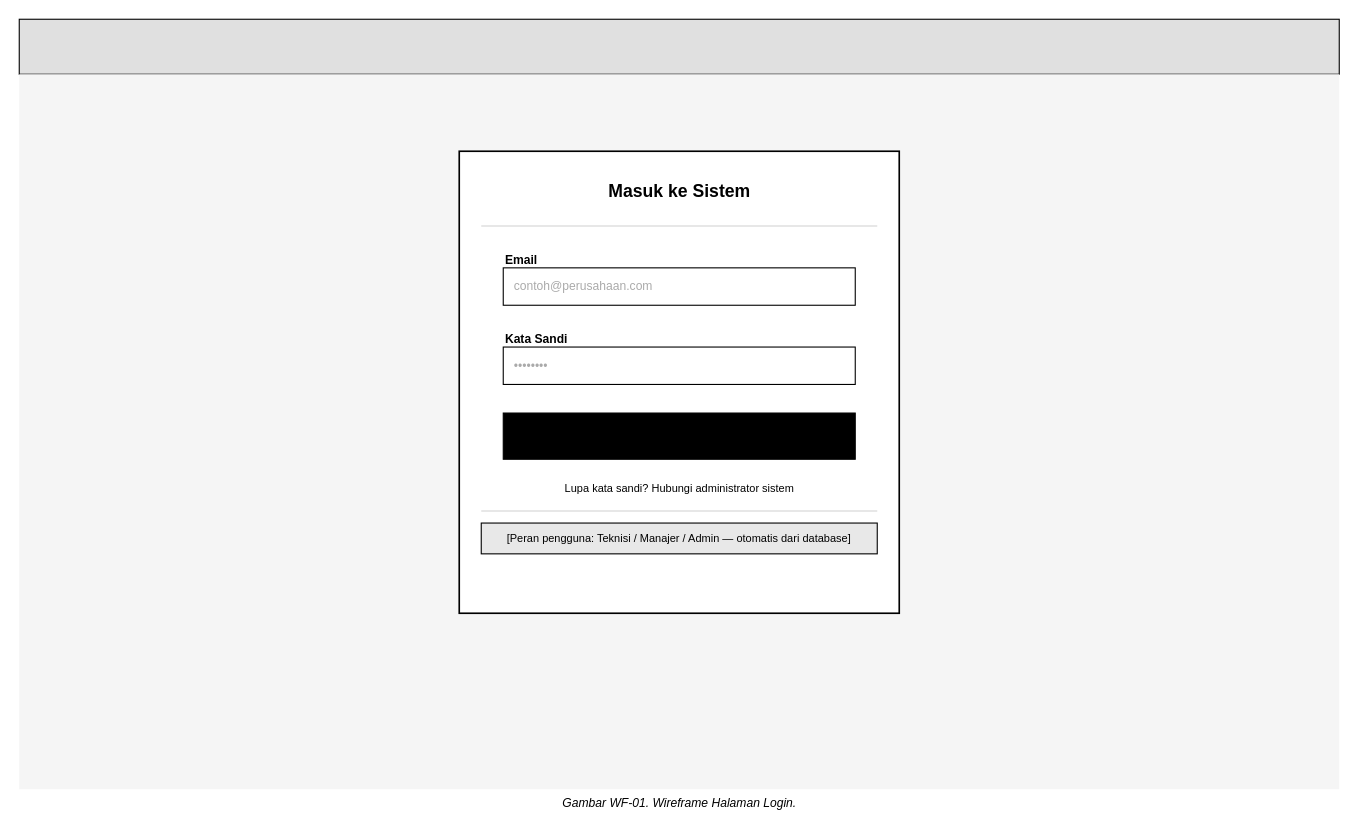
Image size: 1359x831. Some labels were removed from this diagram. The centre of each missing label's shape, as x and y in pixels:
"Masuk" goes at (x=678, y=435).
"PT Smart Home Inovasi — Sistem Manajemen Proyek" goes at (x=678, y=46).
